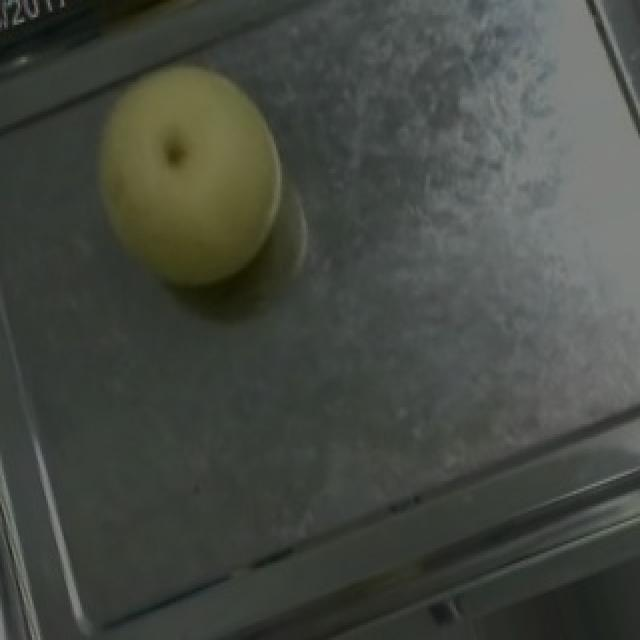Fruit: (48, 20, 324, 325)
